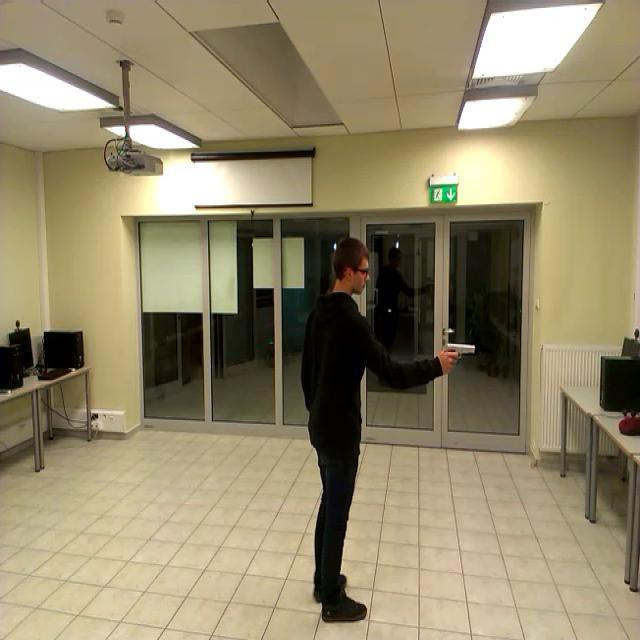Gun: (443, 342, 474, 369)
